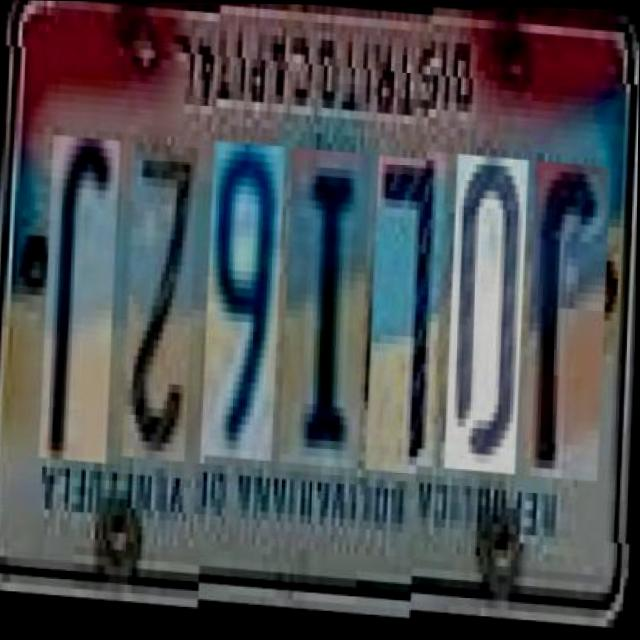0: (444, 172, 524, 492)
2: (122, 150, 196, 470)
6: (200, 156, 282, 475)
i: (279, 162, 368, 481)
j: (523, 178, 608, 498), (39, 144, 117, 472)
l: (365, 167, 444, 486)
